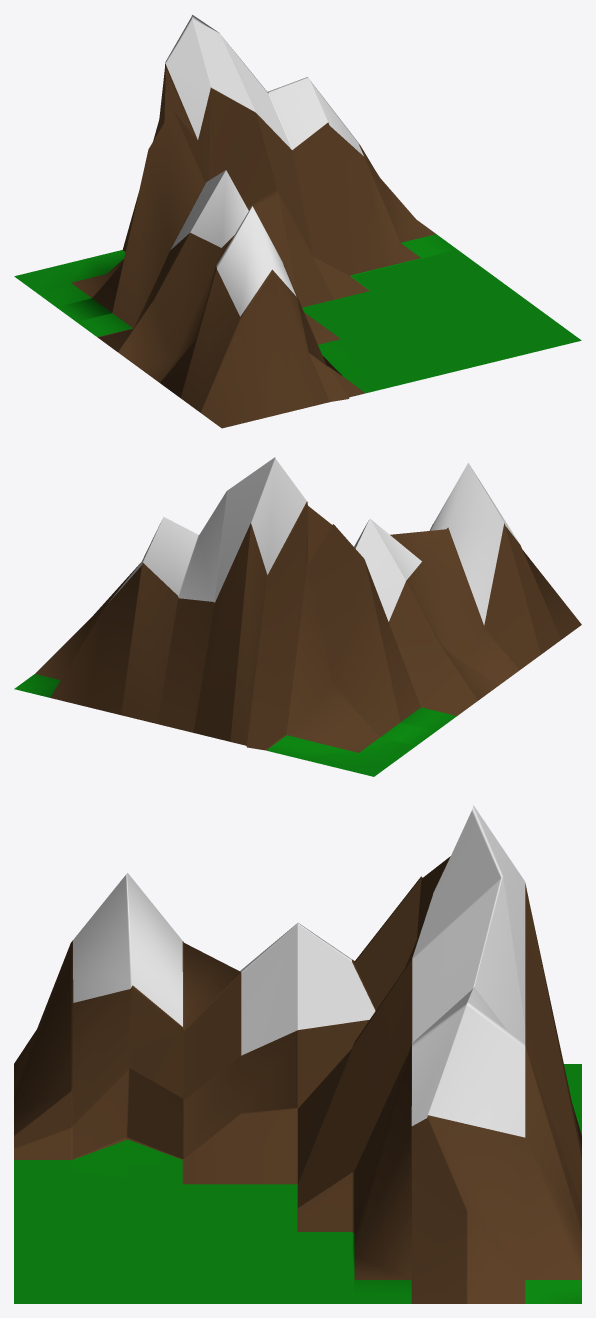
File: Mountain1.fbx
3 views of the same model, one above another, from view 1: azimuth 30°, elevation 25°; view 2: azimuth 150°, elevation 25°; view 3: azimuth 270°, elevation 25° (orthographic). The views are drawn at different scales.
Parts seen in each view (by area): view 1: pPlane1; view 2: pPlane1; view 3: pPlane1.
Boxes of the visible parts, <box> form: pPlane1: <box>14,15,581,428</box>; pPlane1: <box>14,457,581,776</box>; pPlane1: <box>14,805,581,1303</box>.
Size of the model in its own units: 271 by 186 by 271.
